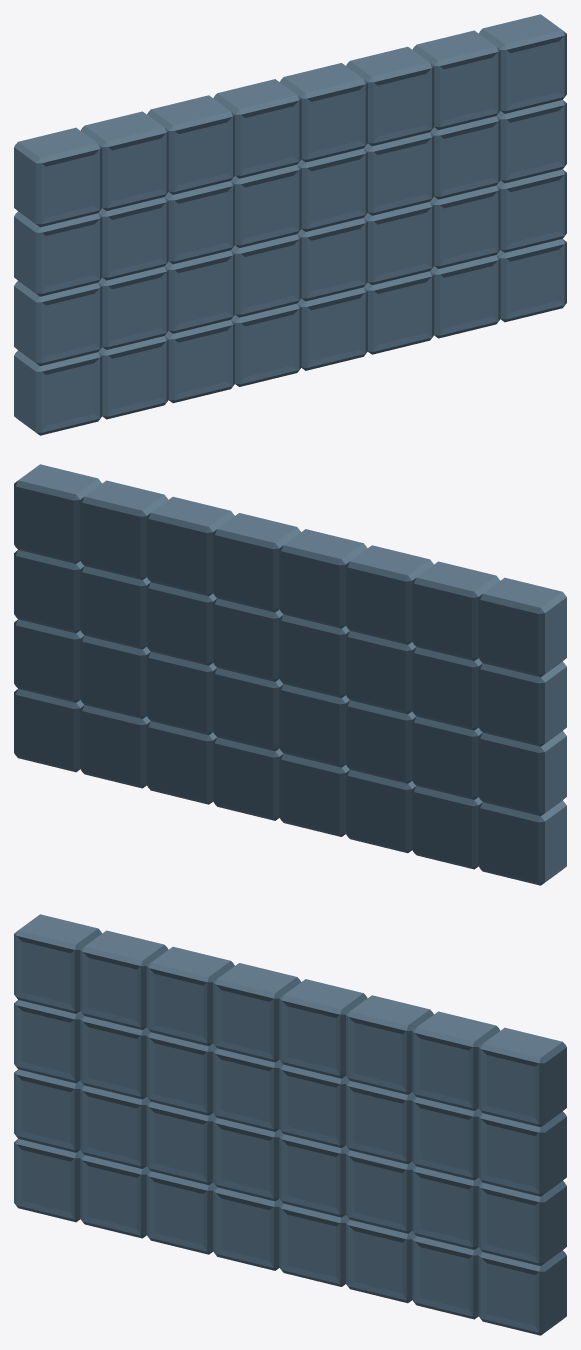
File: Terrain_Block8x4.gltf
3 renders of one model, top to bottom at view 1: azimuth 30°, elevation 25°; view 2: azimuth 150°, elevation 25°; view 3: azimuth 330°, elevation 25°, orthographic.
Parts seen in each view (by area): view 1: Terrain_Block8x4_baked; view 2: Terrain_Block8x4_baked; view 3: Terrain_Block8x4_baked.
Part boxes in pixels (x1,y1,x2,y2): Terrain_Block8x4_baked: (14, 14, 566, 435); Terrain_Block8x4_baked: (14, 464, 566, 885); Terrain_Block8x4_baked: (14, 914, 566, 1335).
Size of the model in its own units: 8 by 4 by 0.6822.
